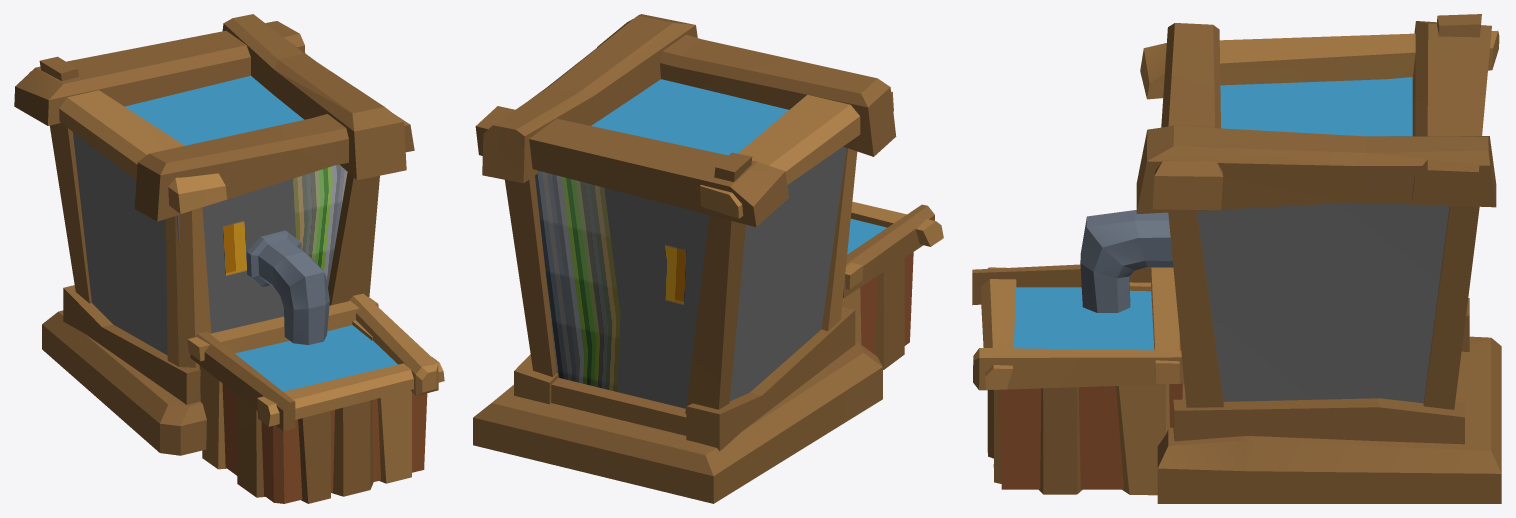
Rendered from buil_pool02.FBX.
3 views of the same model, side by side, from view 1: azimuth 30°, elevation 25°; view 2: azimuth 150°, elevation 25°; view 3: azimuth 270°, elevation 25° (orthographic). The views are drawn at different scales.
Visible parts, largest first — view 1: buil_pool02, buil_pool02_glass01, buil_pool02_water03, buil_pool02_water02; view 2: buil_pool02, buil_pool02_glass01, buil_pool02_water03; view 3: buil_pool02, buil_pool02_glass01, buil_pool02_water03, buil_pool02_water02.
Boxes of the visible parts, bbox=[...] form: buil_pool02: bbox=[14, 14, 444, 503]; buil_pool02_glass01: bbox=[73, 132, 347, 355]; buil_pool02_water03: bbox=[125, 75, 397, 391]; buil_pool02_water02: bbox=[237, 326, 346, 390]; buil_pool02: bbox=[473, 14, 943, 503]; buil_pool02_glass01: bbox=[535, 147, 846, 408]; buil_pool02_water03: bbox=[591, 79, 886, 254]; buil_pool02: bbox=[972, 14, 1501, 503]; buil_pool02_glass01: bbox=[1197, 202, 1449, 403]; buil_pool02_water03: bbox=[1013, 77, 1412, 350]; buil_pool02_water02: bbox=[1016, 287, 1153, 350].
Size of the model in its own units: 150 by 170 by 221.
